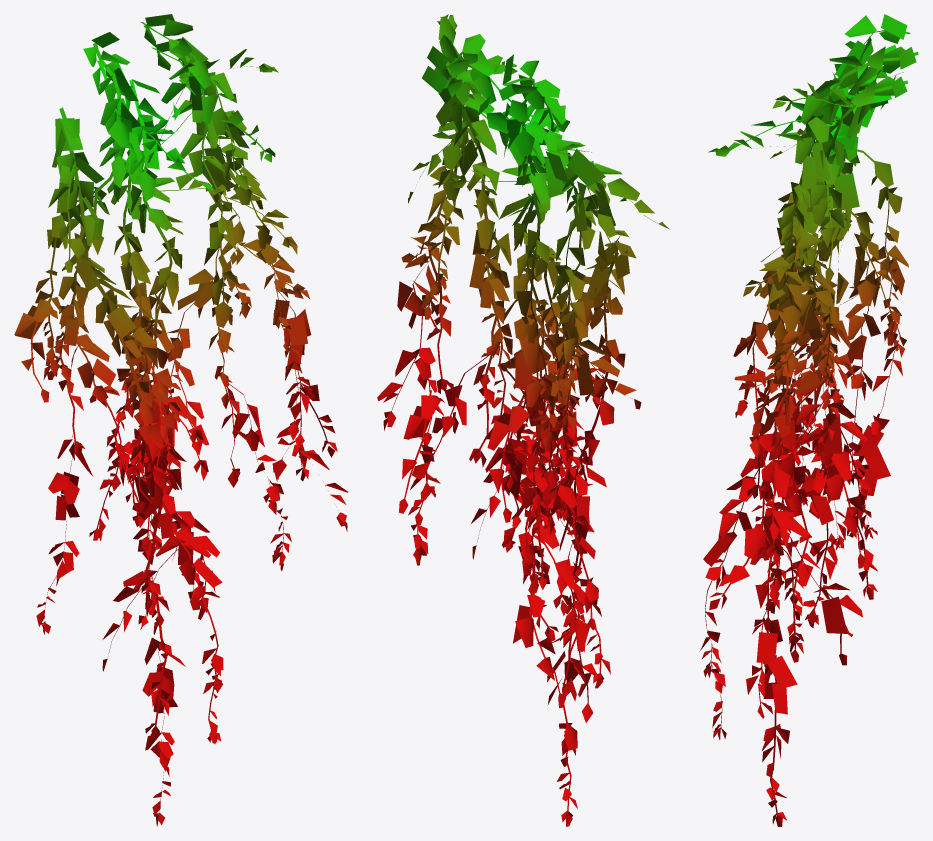
Rendered from Var3_LOD4.fbx.
3 renders of one model, left to right at view 1: azimuth 30°, elevation 25°; view 2: azimuth 150°, elevation 25°; view 3: azimuth 270°, elevation 25°, orthographic. The views are drawn at different scales.
Parts seen in each view (by area): view 1: _xgvf_Var3_LOD4; view 2: _xgvf_Var3_LOD4; view 3: _xgvf_Var3_LOD4.
Boxes of the visible parts, x1,y1,x2,y2 form: _xgvf_Var3_LOD4: [14, 14, 348, 826]; _xgvf_Var3_LOD4: [377, 14, 669, 826]; _xgvf_Var3_LOD4: [699, 14, 918, 826].
Size of the model in its own units: 74.97 by 199 by 48.58.
